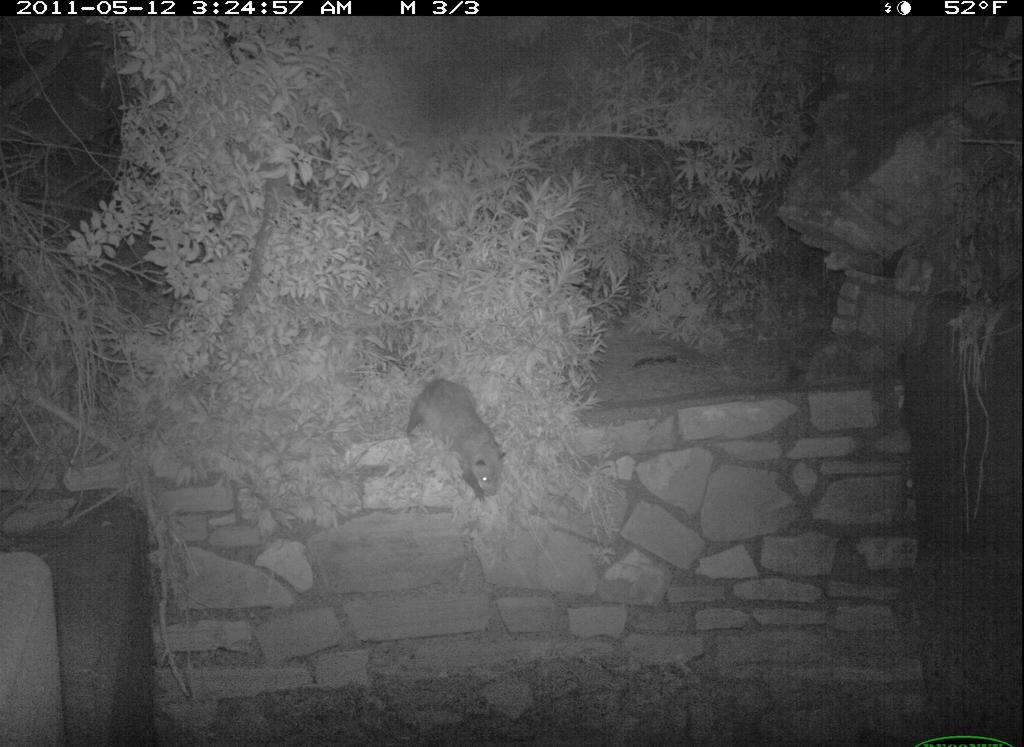opossum: (379, 356, 524, 521)
